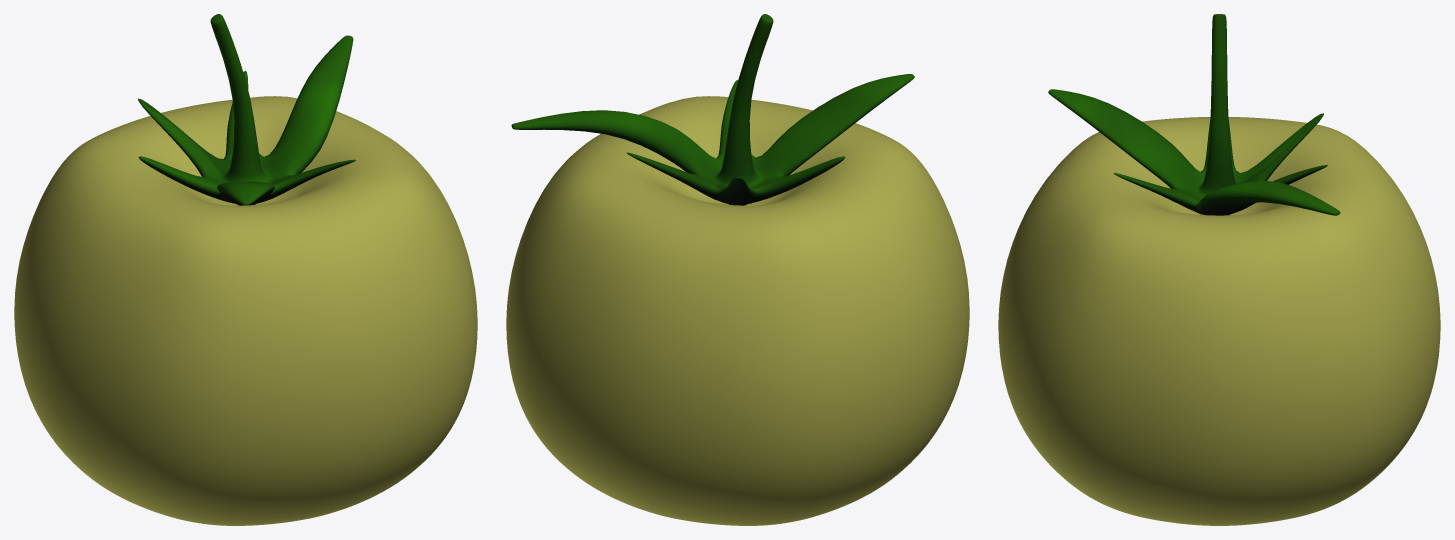
File: Tomato2.fbx
3 views of the same model, side by side, from view 1: azimuth 30°, elevation 25°; view 2: azimuth 150°, elevation 25°; view 3: azimuth 270°, elevation 25° (orthographic). The views are drawn at different scales.
Visible parts, largest first — view 1: Cube, Cylinder; view 2: Cube, Cylinder; view 3: Cube, Cylinder.
Part boxes in pixels (x1,y1,x2,y2): Cube: (14, 96, 477, 525); Cylinder: (138, 14, 355, 205); Cube: (506, 96, 969, 525); Cylinder: (511, 14, 914, 205); Cube: (998, 117, 1440, 525); Cylinder: (1048, 14, 1340, 215).
Size of the model in its own units: 343 by 393 by 343.
